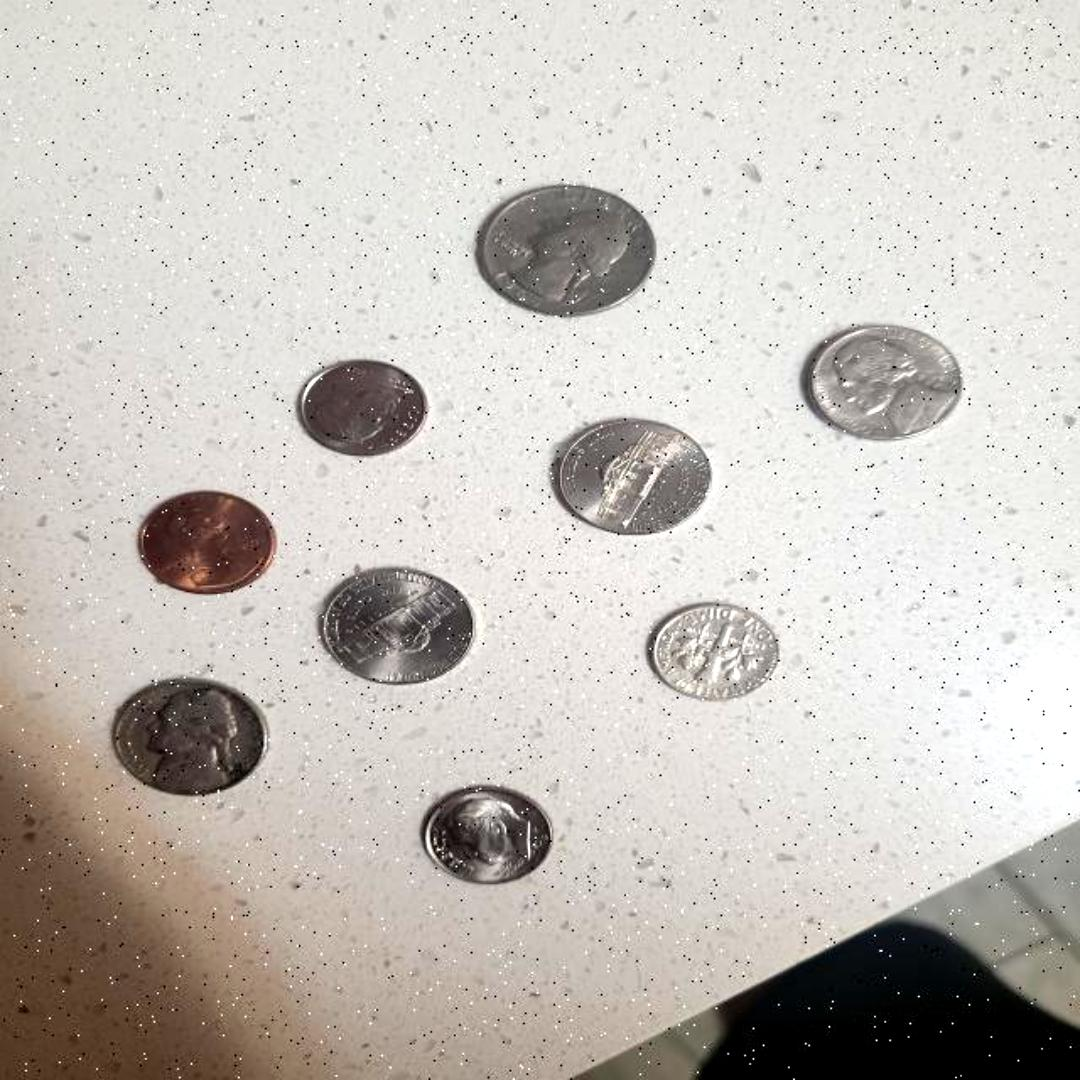Dime: (413, 777, 553, 885), (294, 355, 434, 459), (648, 598, 783, 704)
Nickel: (539, 414, 719, 534), (800, 316, 966, 446), (317, 562, 479, 686), (109, 672, 269, 794)
Penny: (128, 491, 282, 595)
Quarter: (474, 177, 660, 317)
